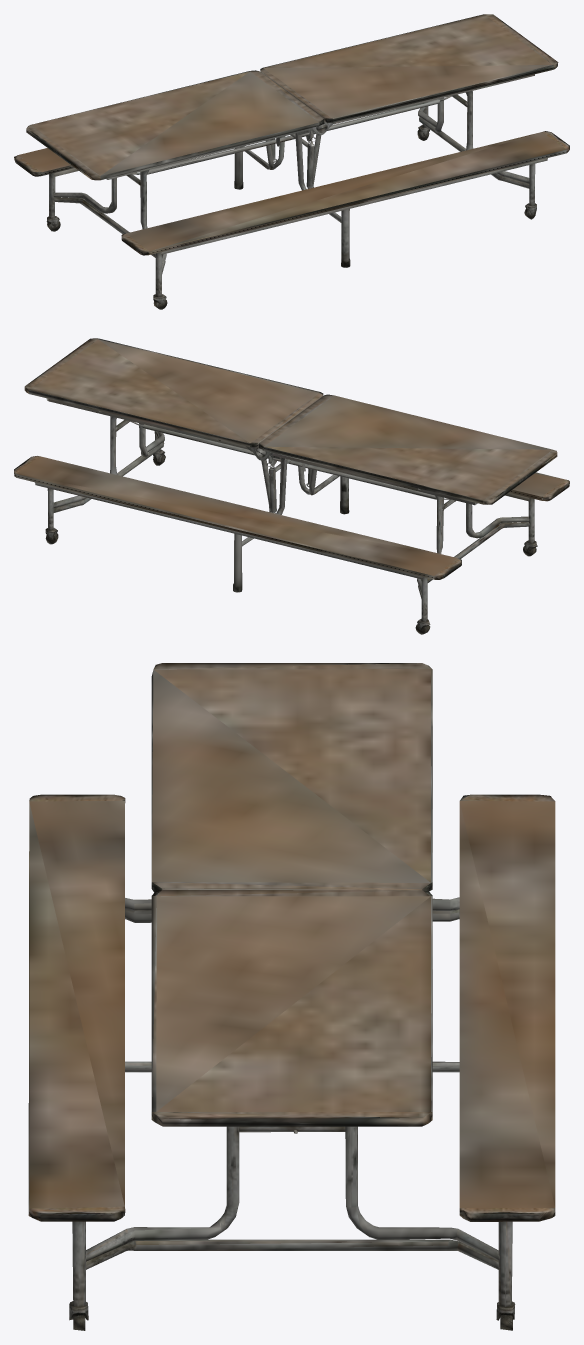
The model's file is prop_cafeteria_table.glb.
The picture shows the model from 3 angles, top to bottom: view 1: azimuth 30°, elevation 25°; view 2: azimuth 150°, elevation 25°; view 3: azimuth 270°, elevation 25°; orthographic projection. The views are drawn at different scales.
Size of the model in its own units: 0.9575 by 0.2593 by 0.4678.
Materials: 1 (1 with a texture image).
